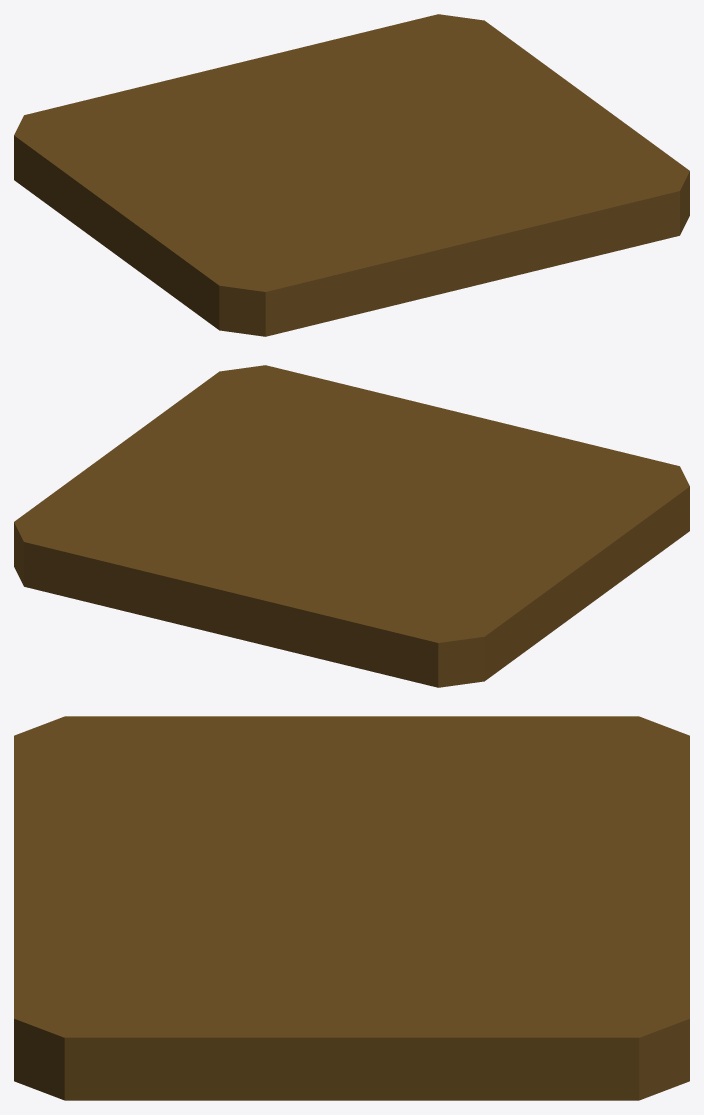
File: SmallCuttingBoard.glb
The picture shows the model from 3 angles, top to bottom: view 1: azimuth 30°, elevation 25°; view 2: azimuth 150°, elevation 25°; view 3: azimuth 270°, elevation 25°; orthographic projection. The views are drawn at different scales.
Visible parts, largest first — view 1: SmallCuttingBoard; view 2: SmallCuttingBoard; view 3: SmallCuttingBoard.
Part boxes in pixels (x1,y1,x2,y2): SmallCuttingBoard: [14, 14, 689, 336]; SmallCuttingBoard: [14, 365, 689, 687]; SmallCuttingBoard: [14, 716, 689, 1100].
Size of the model in its own units: 0.2256 by 0.0205 by 0.2005.
